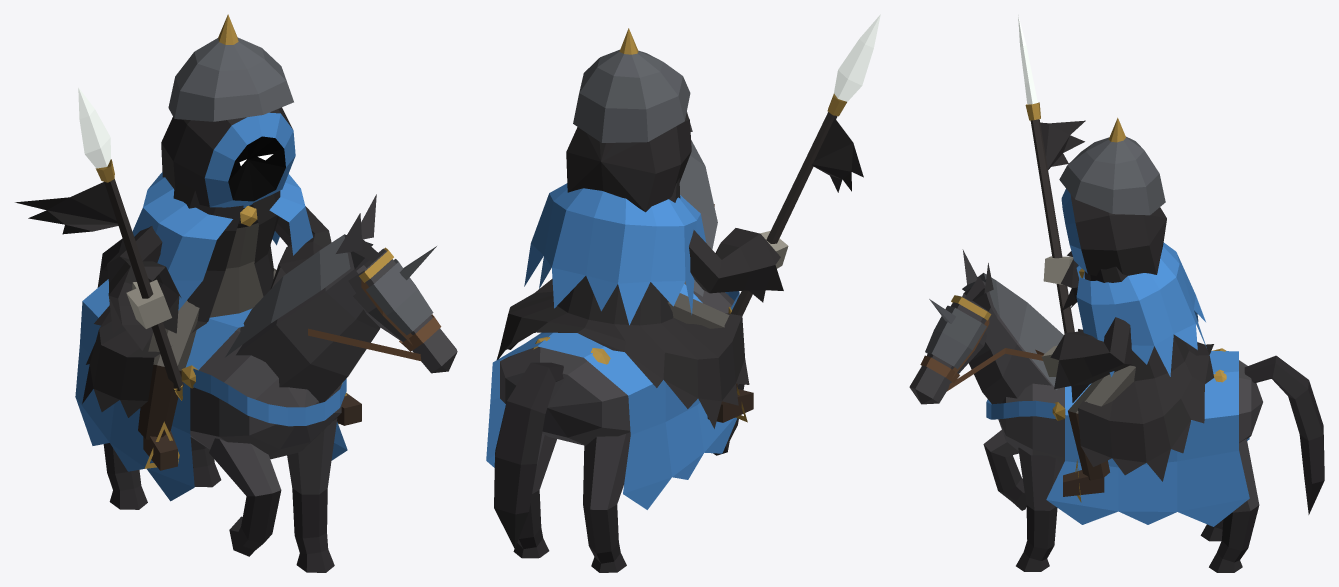
File: khamul-3.glb
3 renders of one model, left to right at view 1: azimuth 30°, elevation 25°; view 2: azimuth 150°, elevation 25°; view 3: azimuth 270°, elevation 25°, orthographic. The views are drawn at different scales.
Parts seen in each view (by area): view 1: khamul-3; view 2: khamul-3; view 3: khamul-3.
Boxes of the visible parts, <box> form: khamul-3: <box>15,14,457,572</box>; khamul-3: <box>486,14,880,572</box>; khamul-3: <box>909,14,1324,572</box>.
Size of the model in its own units: 1.27 by 1.86 by 1.55.
